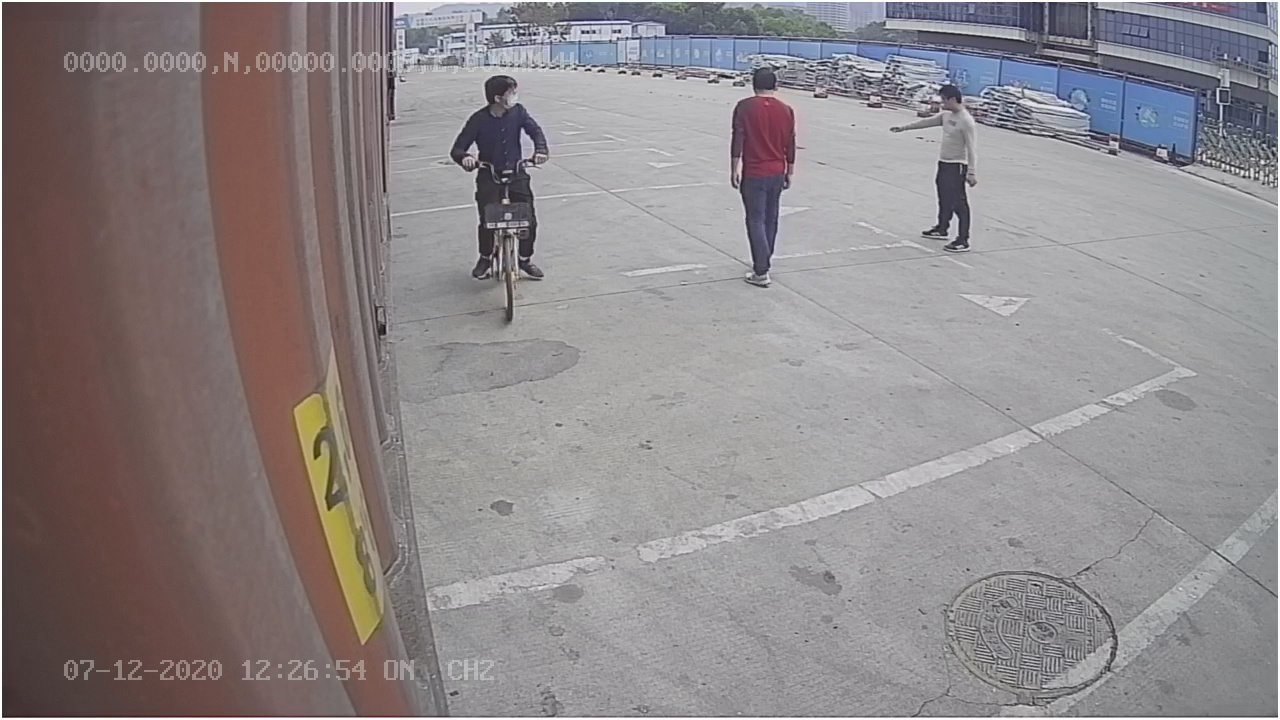person: (727, 65, 801, 293)
